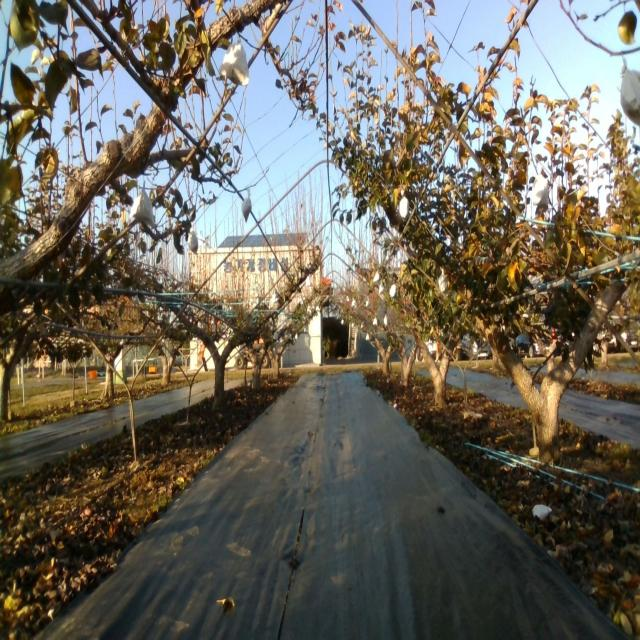pearbags: (218, 37, 250, 86), (621, 62, 640, 125), (130, 188, 154, 225), (532, 174, 549, 208), (398, 194, 411, 224), (186, 226, 198, 255), (242, 188, 252, 222)
